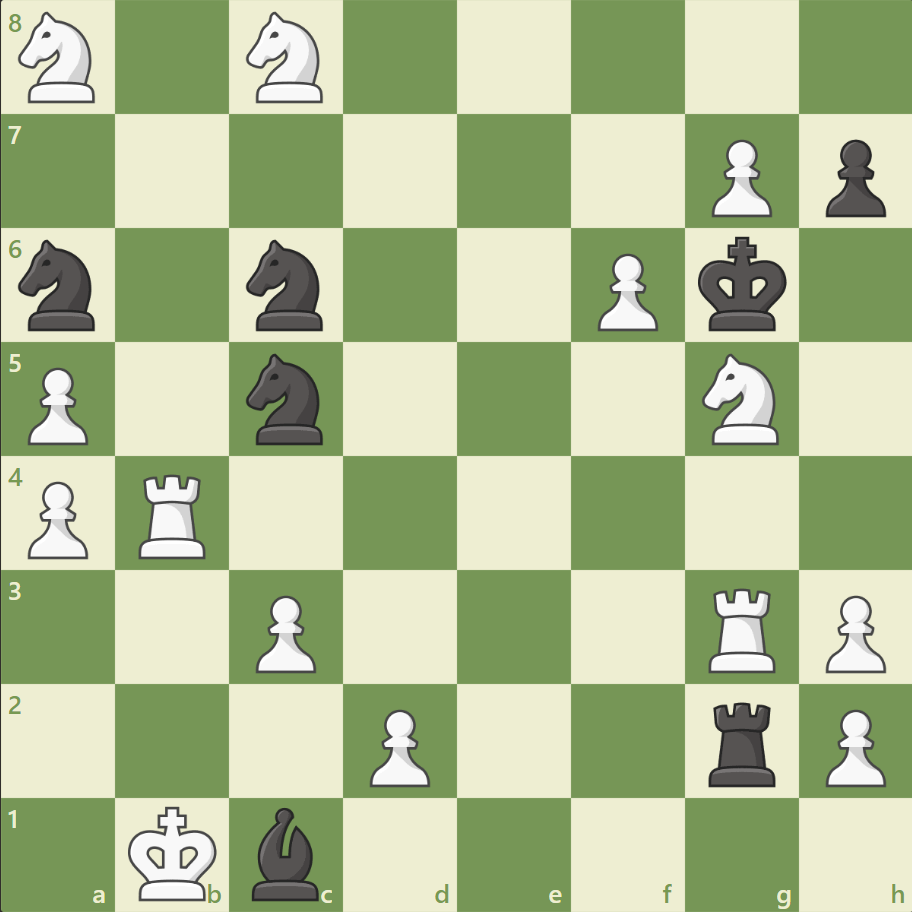K: (124, 798, 224, 906)
N: (11, 7, 108, 110), (238, 7, 335, 110), (692, 348, 789, 450)
P: (701, 132, 776, 223), (20, 359, 95, 450), (20, 473, 95, 564), (247, 586, 322, 677), (588, 246, 662, 337), (815, 586, 889, 677), (361, 700, 435, 791), (815, 700, 889, 791)
R: (700, 579, 783, 676), (133, 466, 215, 563)
b: (244, 801, 328, 904)
k: (692, 231, 792, 339)
n: (11, 234, 108, 337), (238, 234, 335, 337), (238, 348, 335, 450)
p: (815, 132, 889, 223)
r: (700, 693, 783, 790)
